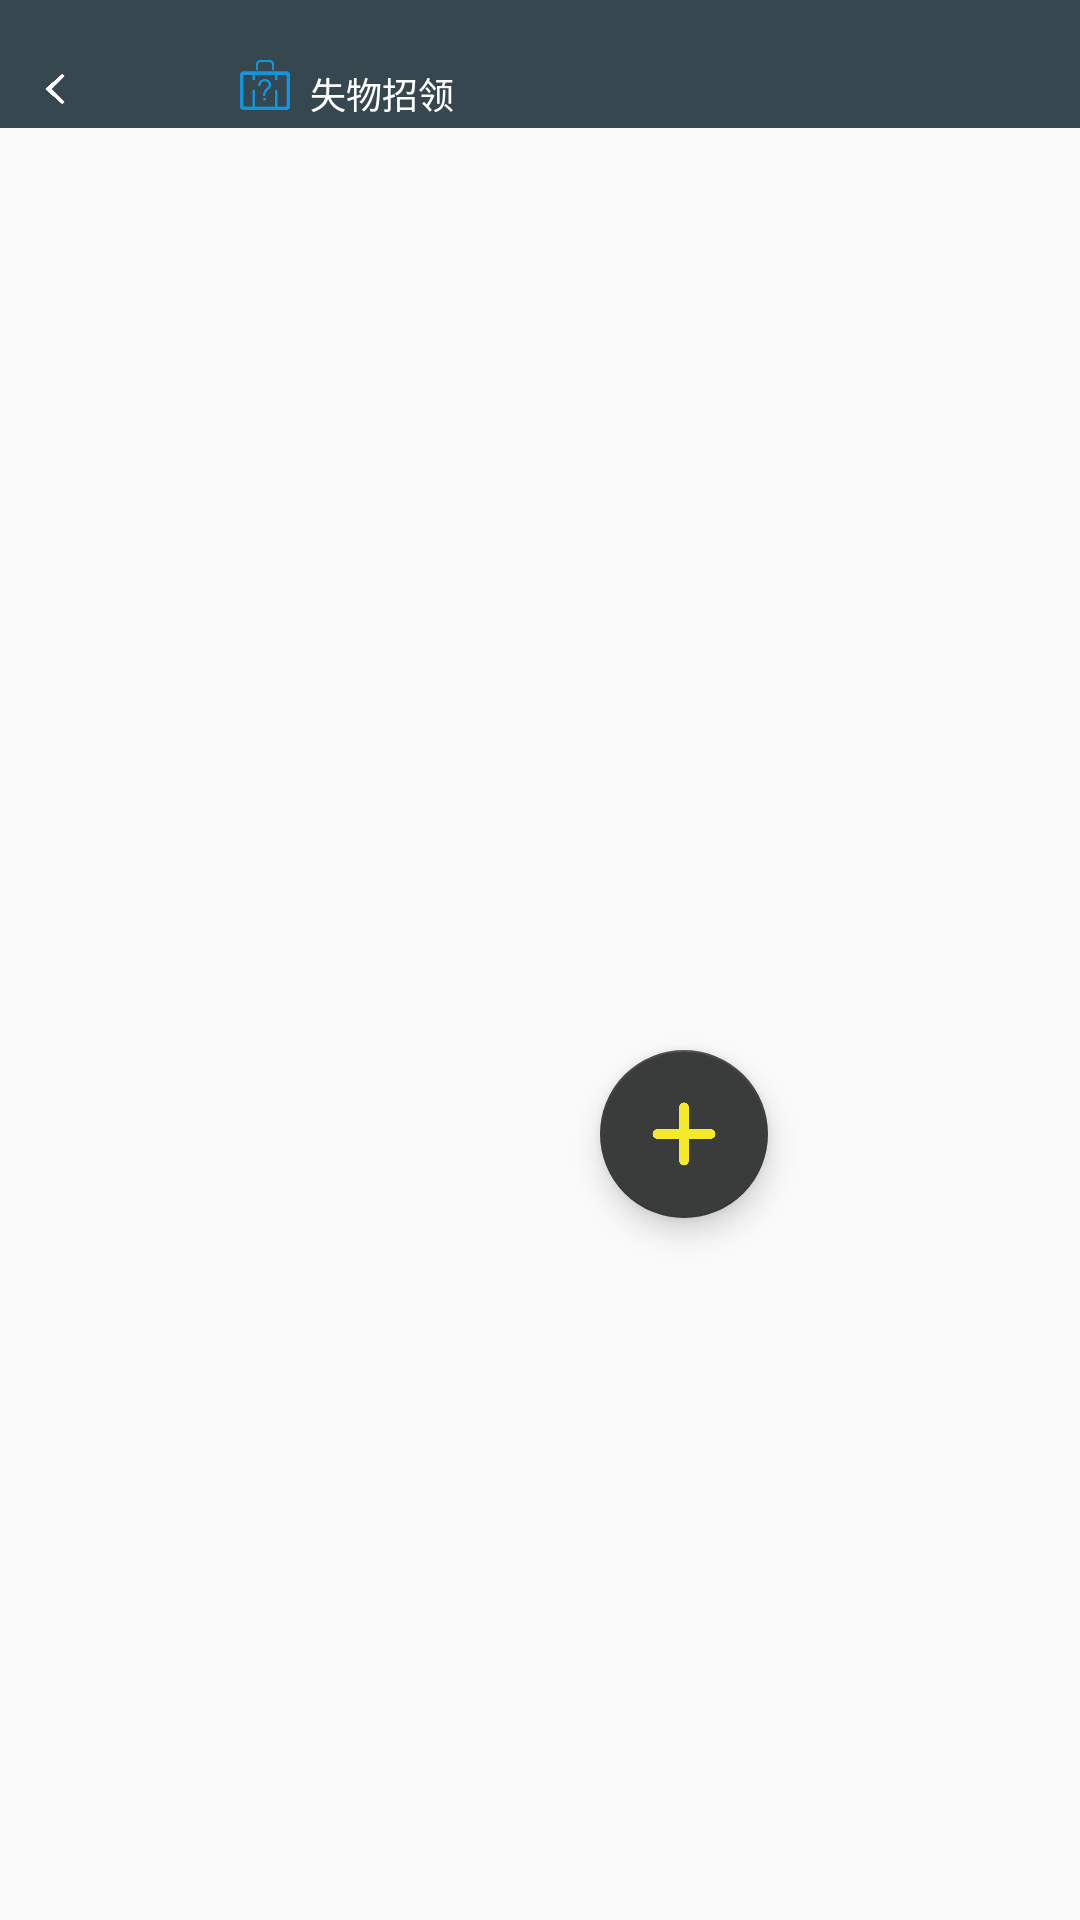

Named icons in this screenshot (1080w x 1920h) and their centers, point (x, y):
adds: point (684, 1134)
back: point (55, 89)
lost: point (265, 85)
